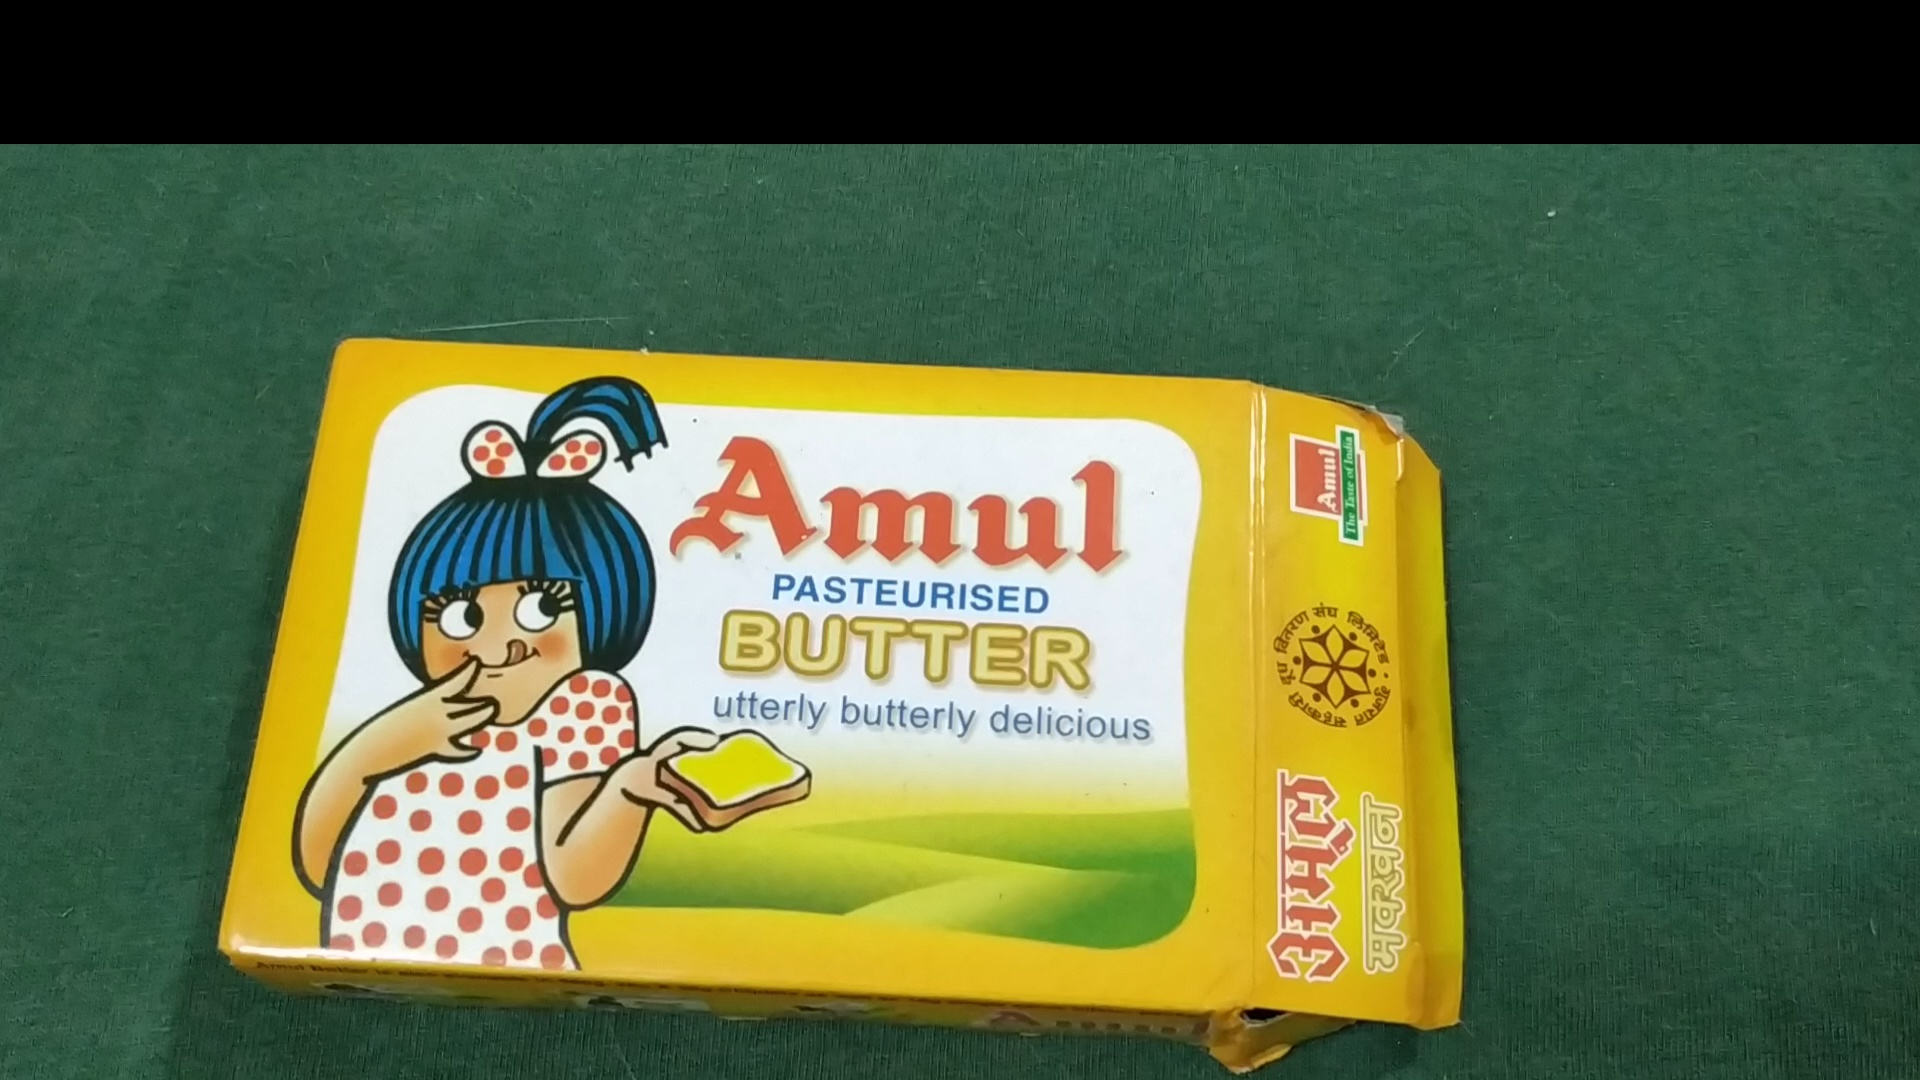amul_butter: (210, 338, 1457, 1062)
